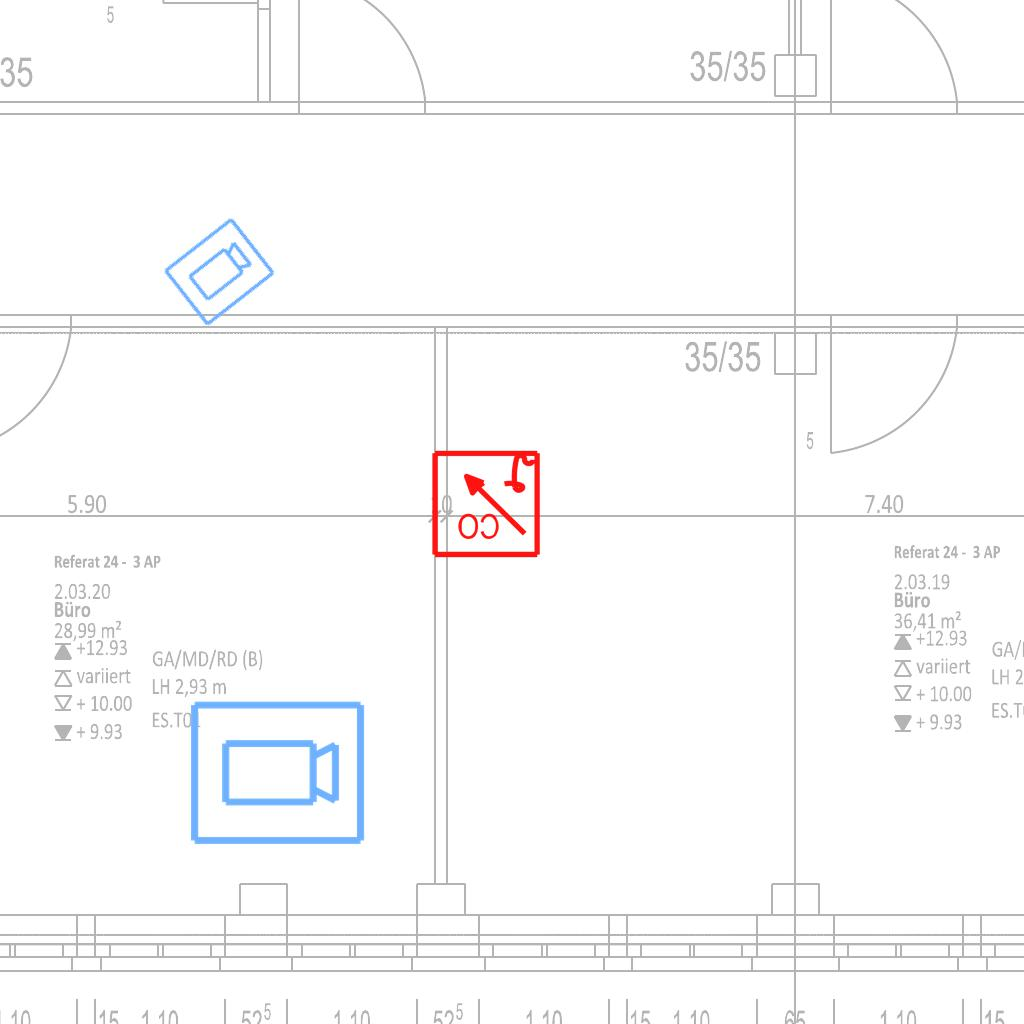KFO_Kamera_mit_Festobjektiv: (186, 697, 368, 851), (159, 214, 280, 331)
ROA_Rauchmelder_optisch_mit_Signalgeber_(Sockelsirene): (429, 446, 542, 559)
